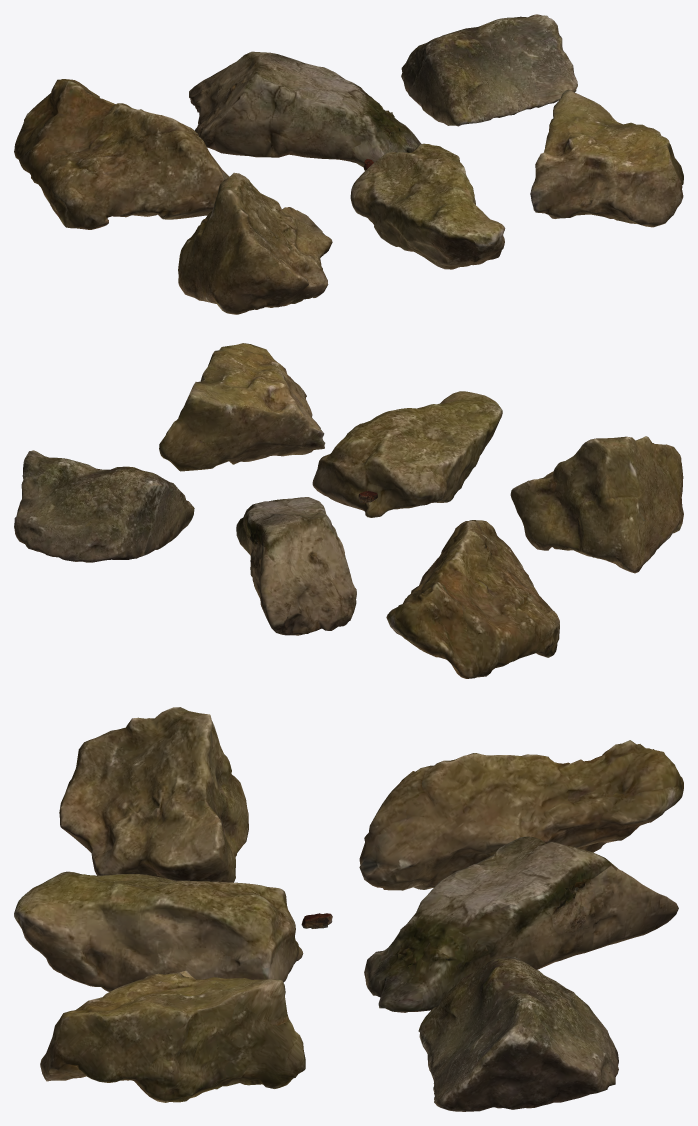
File: rocks.glb
3 views of the same model, one above another, from view 1: azimuth 30°, elevation 25°; view 2: azimuth 150°, elevation 25°; view 3: azimuth 270°, elevation 25° (orthographic). The views are drawn at different scales.
Visible parts, largest first — view 1: moss_0, moss_1, moss_5, moss_3, moss_2, moss_4; view 2: moss_3, moss_0, moss_4, moss_2, moss_5, moss_1; view 3: moss_0, moss_1, moss_4, moss_5, moss_3, moss_2.
Part boxes in pixels (bbox=[...]): moss_0: bbox=[14, 79, 229, 229]; moss_1: bbox=[189, 51, 421, 167]; moss_5: bbox=[530, 89, 683, 227]; moss_3: bbox=[178, 172, 332, 314]; moss_2: bbox=[401, 14, 577, 126]; moss_4: bbox=[350, 143, 505, 269]; moss_3: bbox=[510, 436, 683, 573]; moss_0: bbox=[386, 520, 559, 678]; moss_4: bbox=[312, 391, 502, 517]; moss_2: bbox=[14, 450, 194, 562]; moss_5: bbox=[159, 343, 325, 471]; moss_1: bbox=[236, 497, 356, 635]; moss_0: bbox=[359, 740, 683, 890]; moss_1: bbox=[364, 836, 678, 1012]; moss_4: bbox=[14, 871, 303, 991]; moss_5: bbox=[40, 970, 305, 1102]; moss_3: bbox=[59, 707, 248, 882]; moss_2: bbox=[418, 956, 618, 1111].
Size of the model in its own units: 8 by 1.76 by 6.94.
7 materials, 7 textured.
